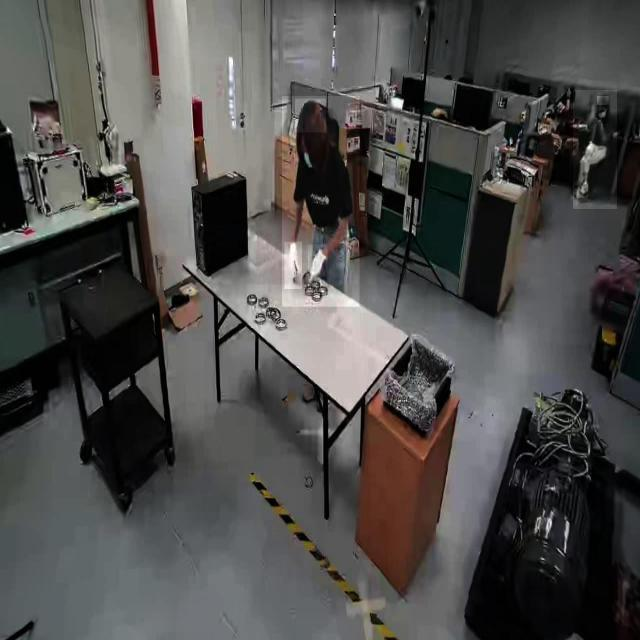gloves: (308, 244, 328, 294), (284, 242, 302, 290)
